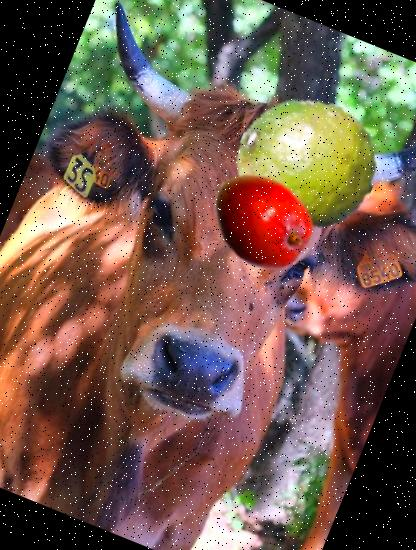Limes: (214, 76, 396, 258)
Mango: (191, 149, 333, 292)
